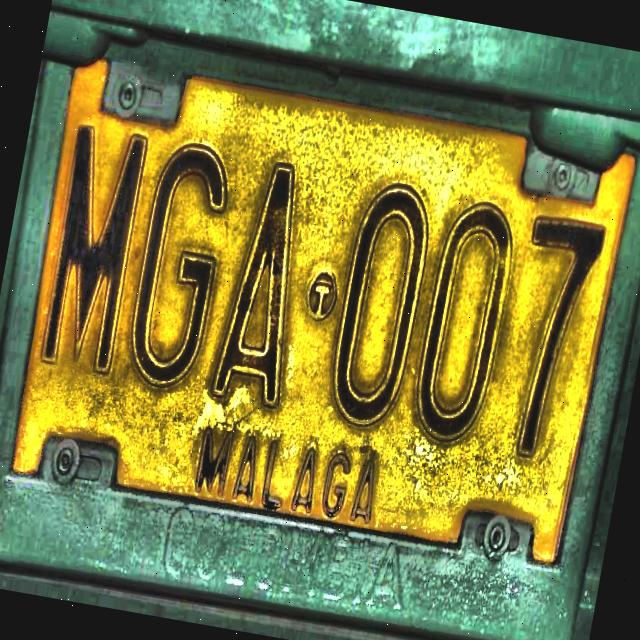plate: (9, 50, 634, 562)
